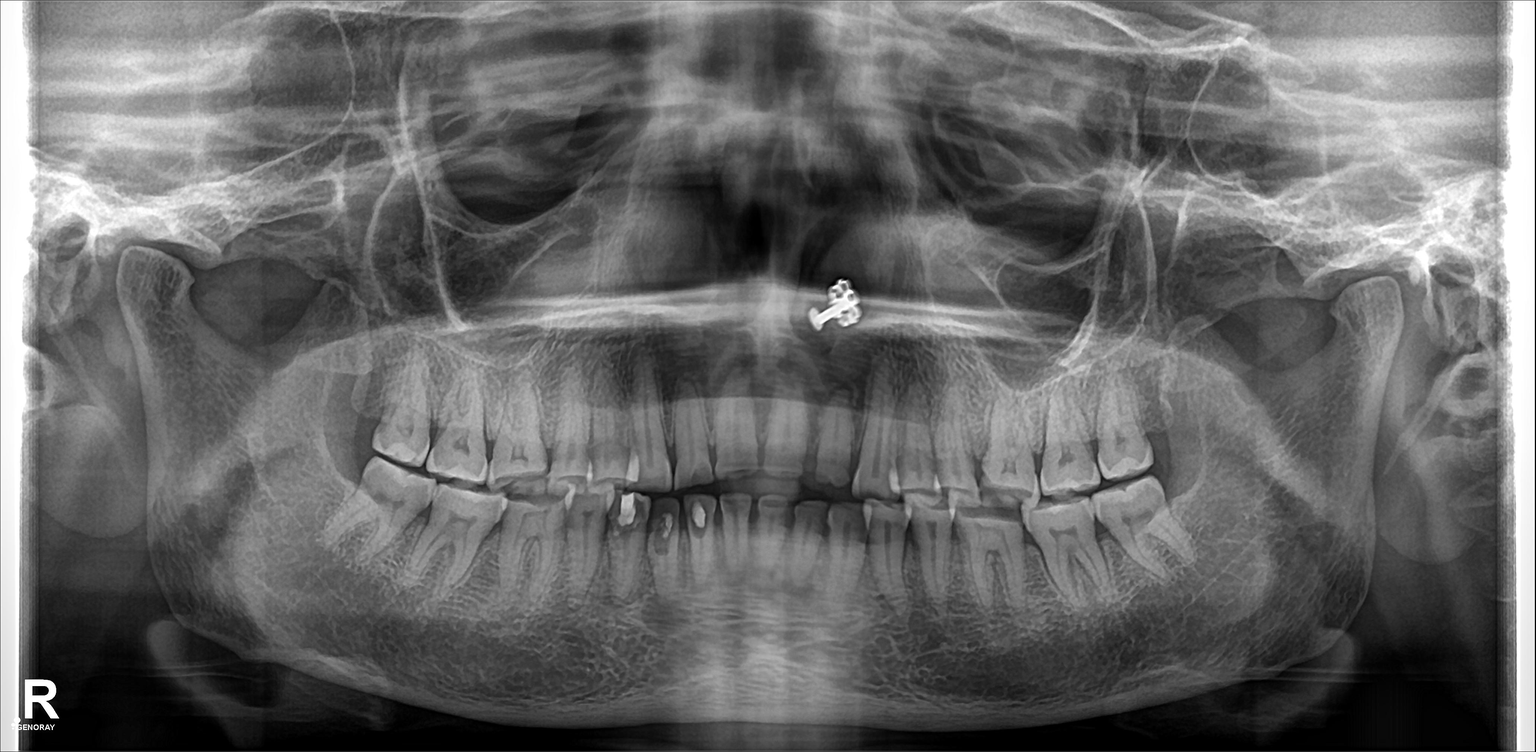Dental Caries: (615, 491, 642, 529), (656, 508, 675, 550), (693, 495, 705, 529)
Missing Tooth: (1147, 374, 1195, 453), (337, 357, 383, 434)
